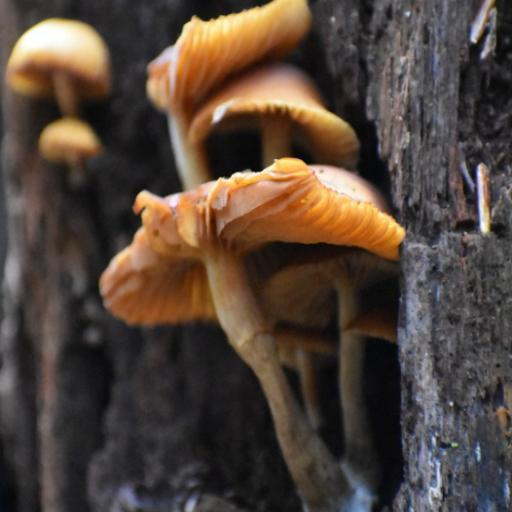mushroom: (98, 5, 420, 378)
